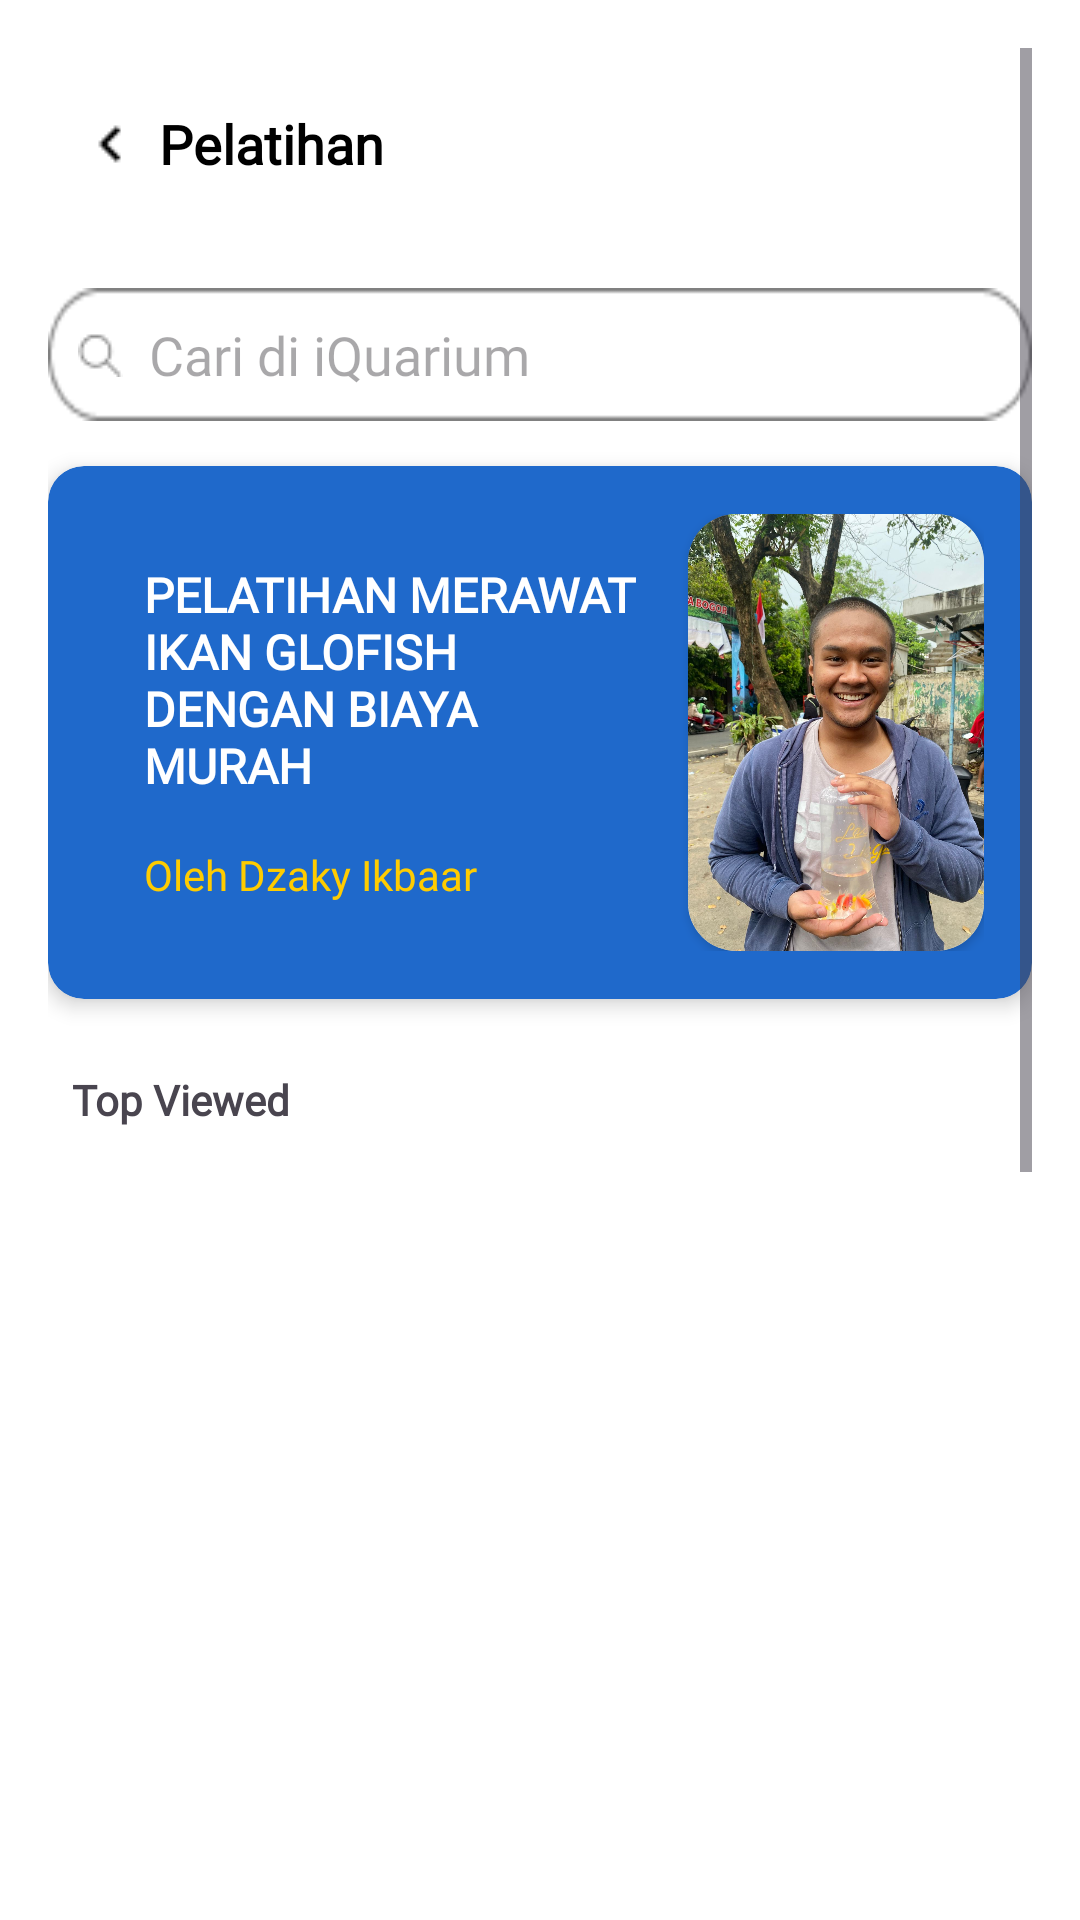

Locate icon controls on the screen. Image size 1080x1920, boxes as [x1, y1, x2, y2].
Kembali: [98, 125, 121, 163]
